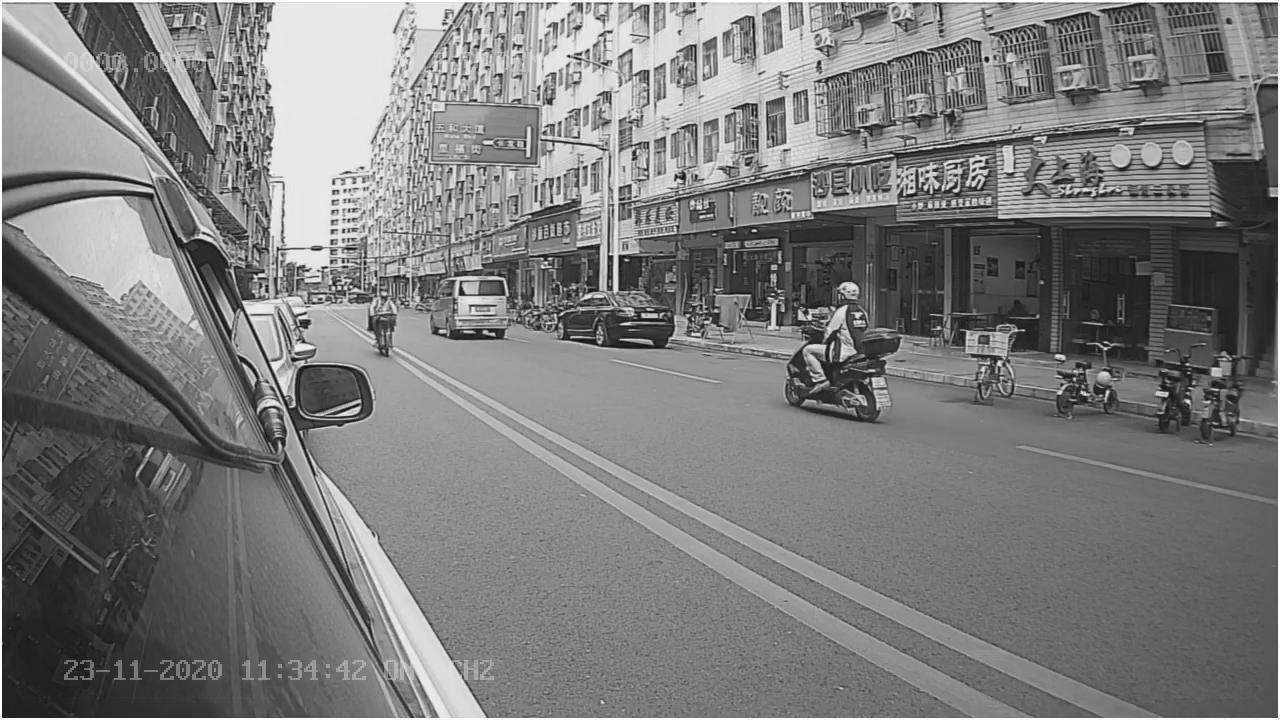person: (809, 270, 864, 347)
